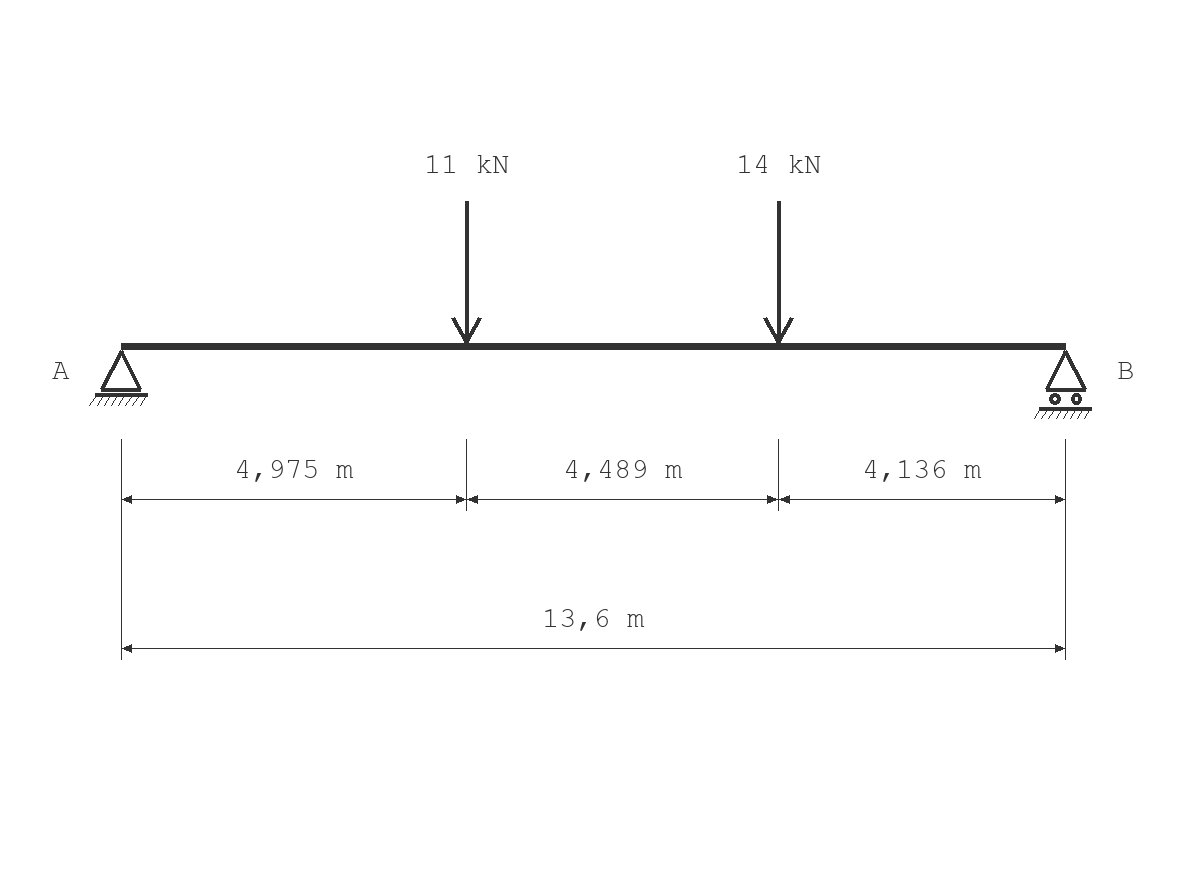pin_support: (89, 350, 148, 406)
point_load: (451, 201, 482, 344), (763, 201, 794, 344)
roller_support: (1034, 350, 1092, 419)
